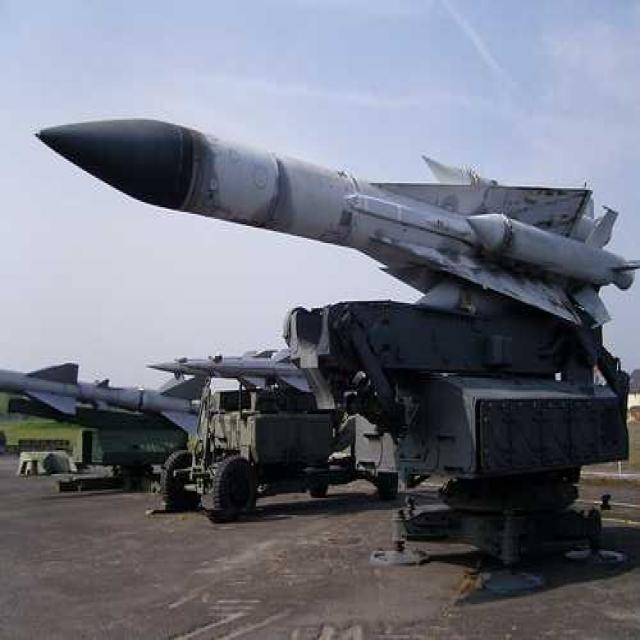missile: (33, 112, 628, 342)
